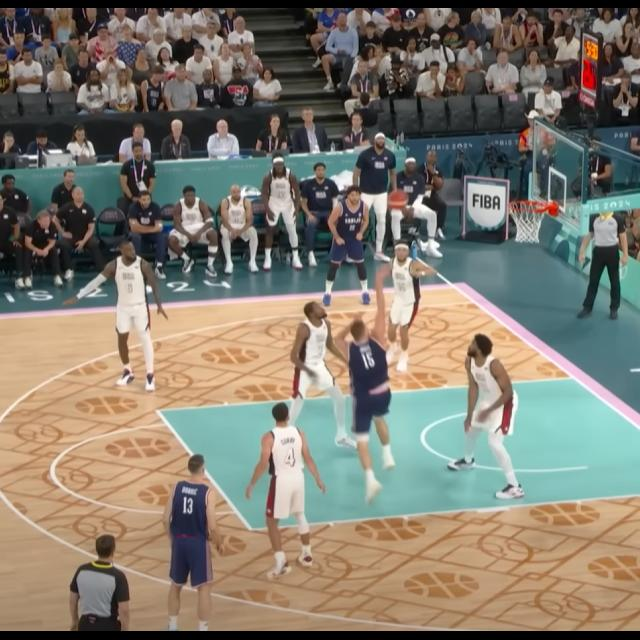basketball: (388, 189, 407, 211)
hoop: (504, 198, 552, 247)
